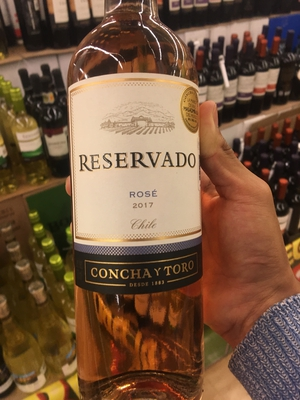reservado rose: (53, 19, 231, 383)
